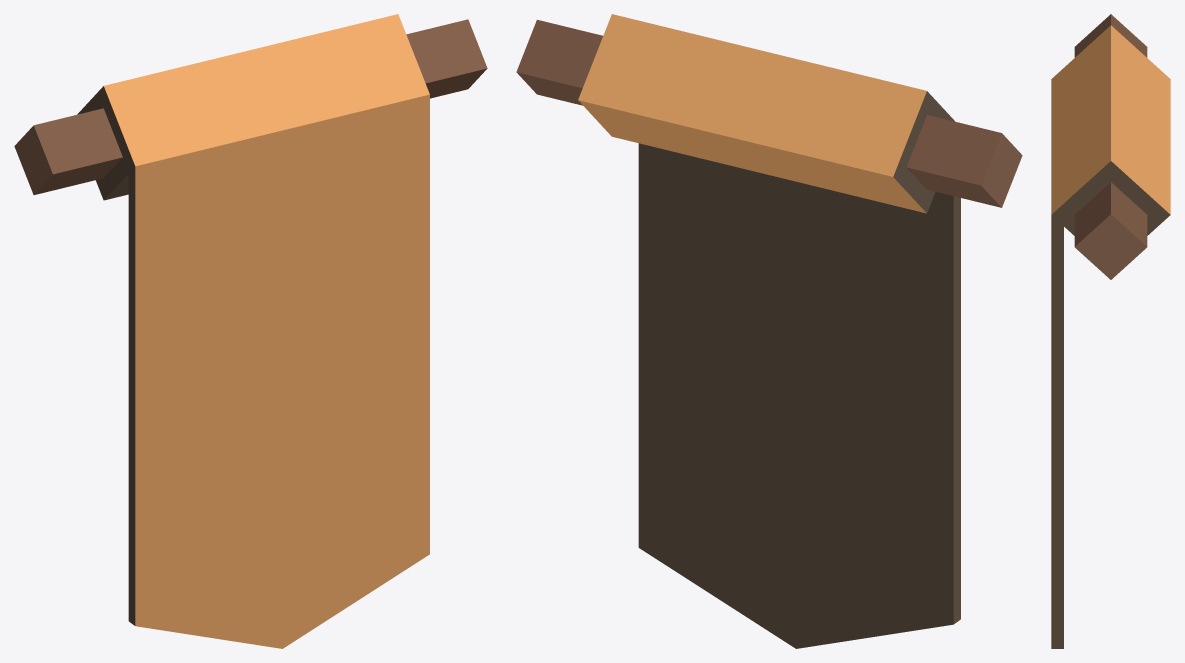
The model's file is TB_Prop_FlagSingle_C.FBX.
The picture shows the model from 3 angles, left to right: view 1: azimuth 30°, elevation 25°; view 2: azimuth 150°, elevation 25°; view 3: azimuth 270°, elevation 25°; orthographic projection. The views are drawn at different scales.
Parts seen in each view (by area): view 1: TB_Prop_FlagSingle_C; view 2: TB_Prop_FlagSingle_C; view 3: TB_Prop_FlagSingle_C.
Boxes of the visible parts, bbox=[...] form: TB_Prop_FlagSingle_C: bbox=[14, 14, 487, 648]; TB_Prop_FlagSingle_C: bbox=[516, 14, 1022, 648]; TB_Prop_FlagSingle_C: bbox=[1051, 14, 1170, 648].
Size of the model in its own units: 1.95 by 2.47 by 0.4917.
